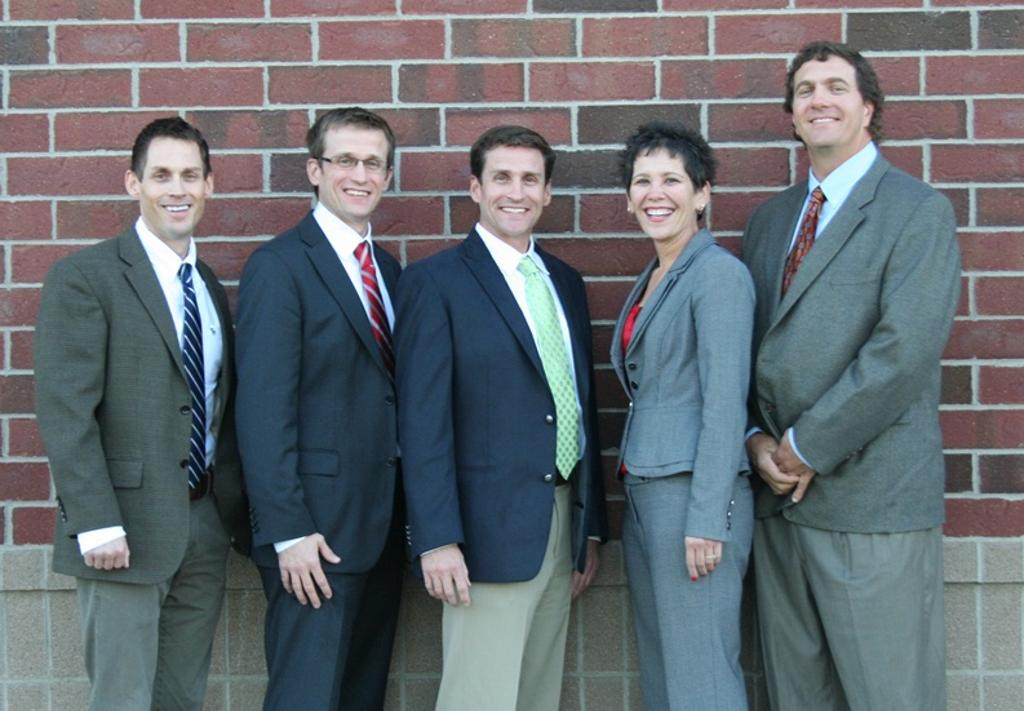face: (142, 138, 208, 232), (792, 54, 858, 142), (484, 146, 548, 232), (632, 148, 694, 236), (326, 130, 386, 212)
